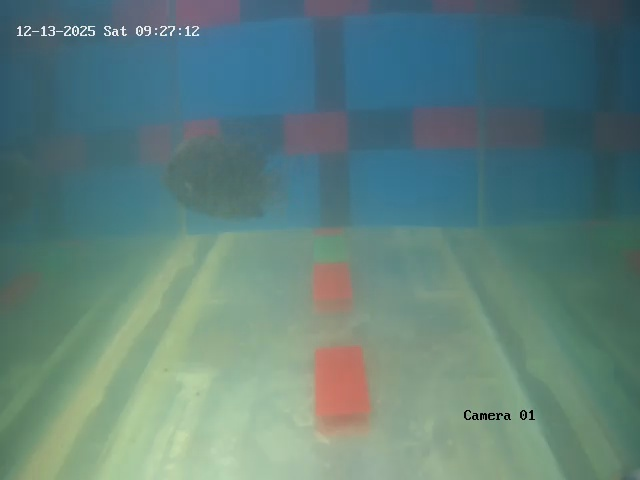fish: (158, 127, 284, 226)
